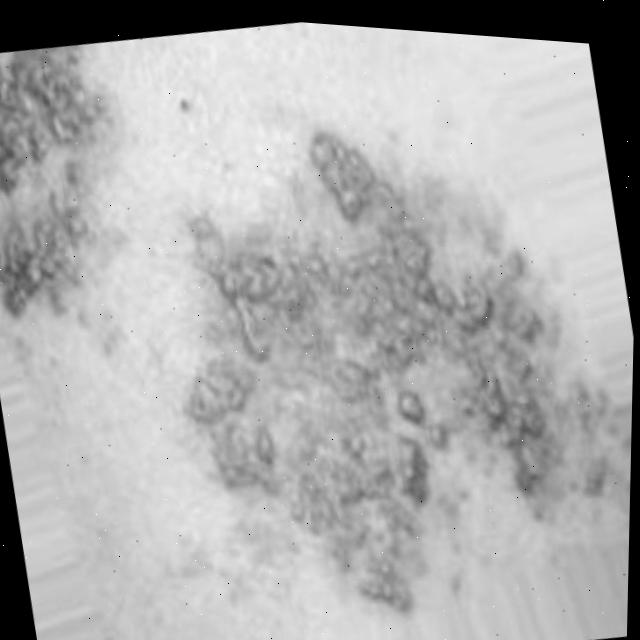Shingles: (110, 63, 639, 640), (0, 35, 138, 347)
